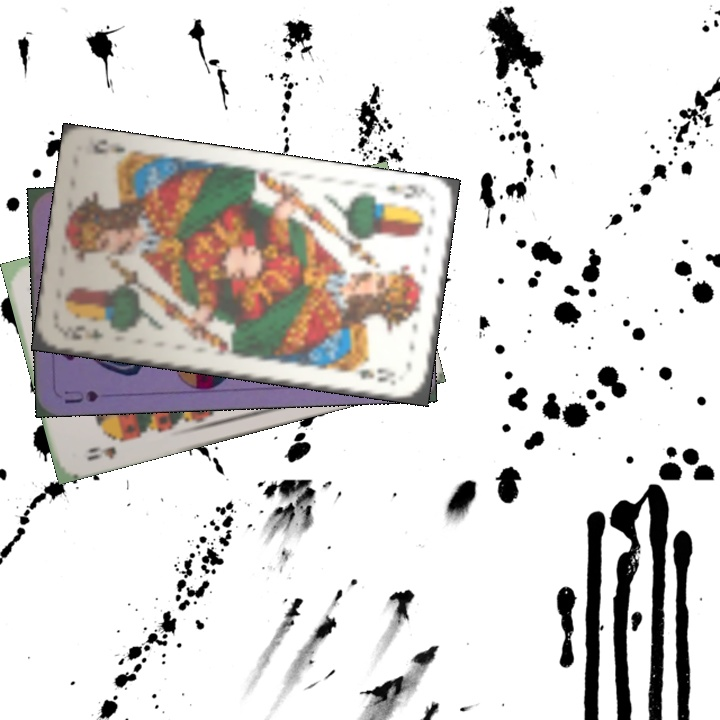EK: (381, 180, 431, 202), (65, 321, 106, 342)
S9: (83, 431, 134, 464)
SU: (60, 386, 100, 406)
